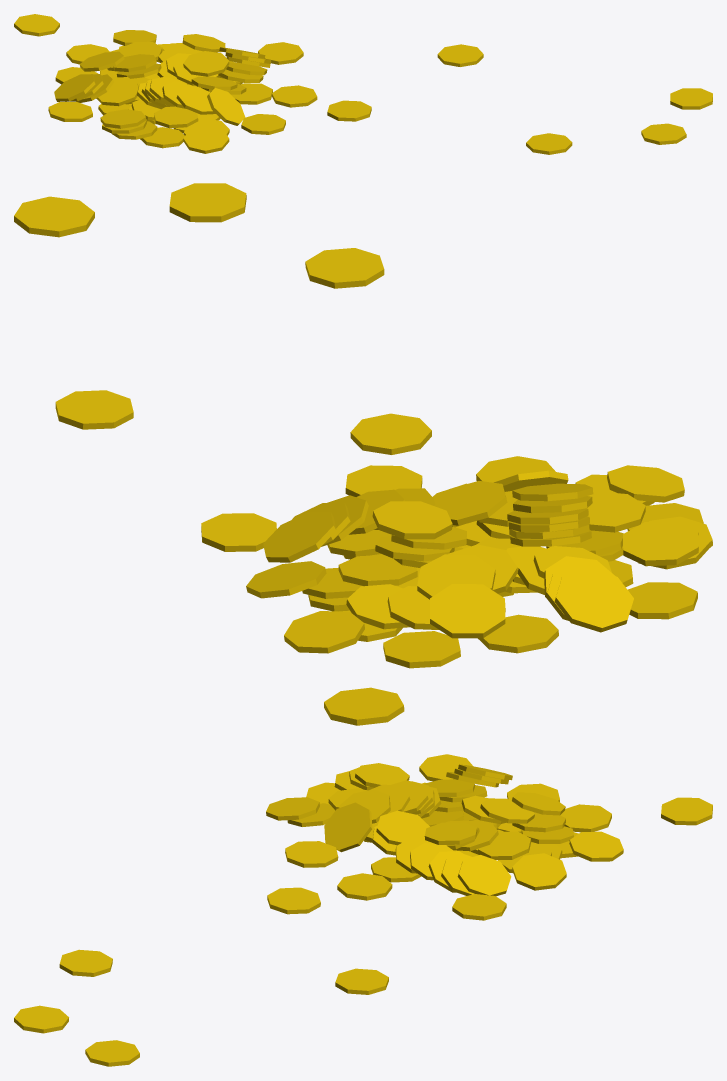
The model's file is CoinHeap3.fbx.
3 views of the same model, one above another, from view 1: azimuth 30°, elevation 25°; view 2: azimuth 150°, elevation 25°; view 3: azimuth 270°, elevation 25° (orthographic). The views are drawn at different scales.
Visible parts, largest first — view 1: CoinHeap3; view 2: CoinHeap3; view 3: CoinHeap3.
Part boxes in pixels (x1,y1,x2,y2): CoinHeap3: (14, 14, 712, 154); CoinHeap3: (14, 183, 712, 725); CoinHeap3: (14, 754, 712, 1066).
Size of the model in its own units: 143 by 8.08 by 138.
